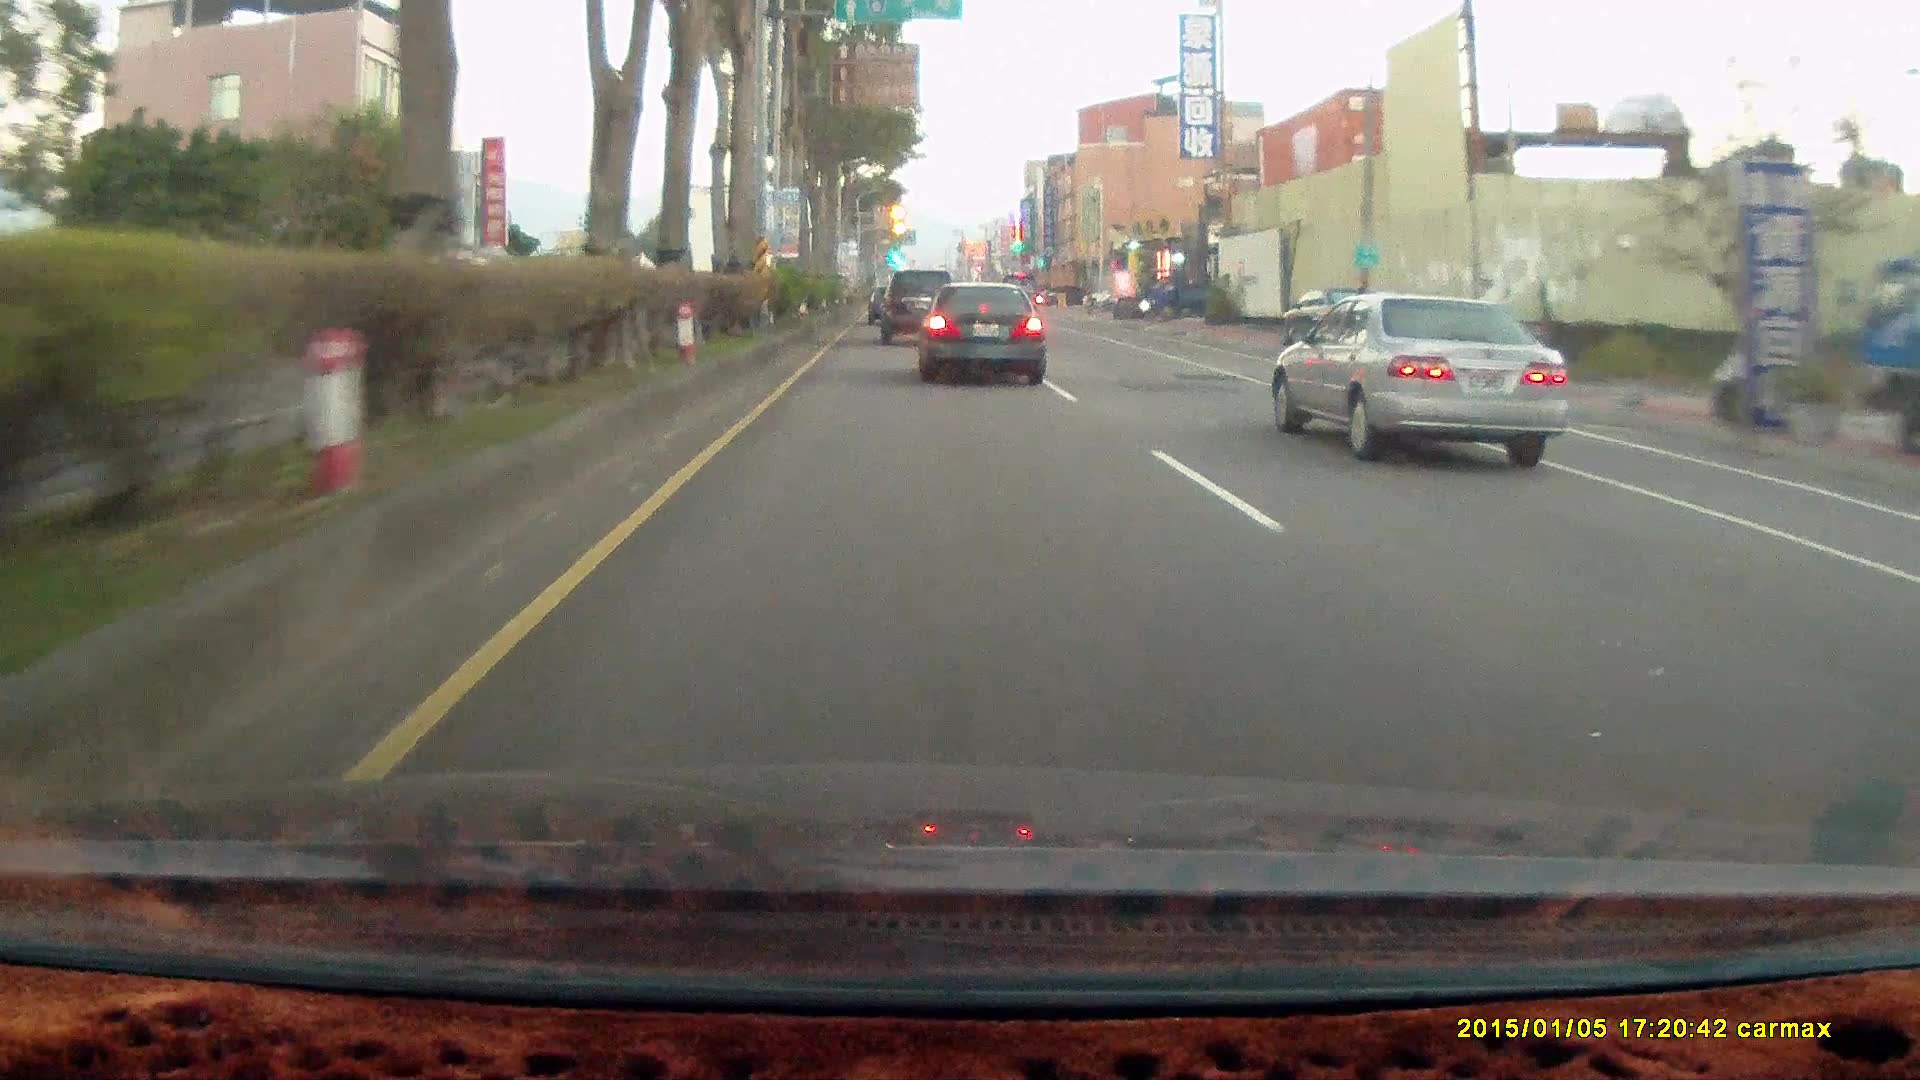vehicle: (1276, 293, 1582, 468), (1271, 291, 1571, 467), (913, 281, 1044, 385), (920, 285, 1051, 389), (1851, 260, 1920, 458), (880, 273, 960, 348), (880, 270, 959, 345), (1135, 266, 1218, 322), (1046, 286, 1087, 307)
